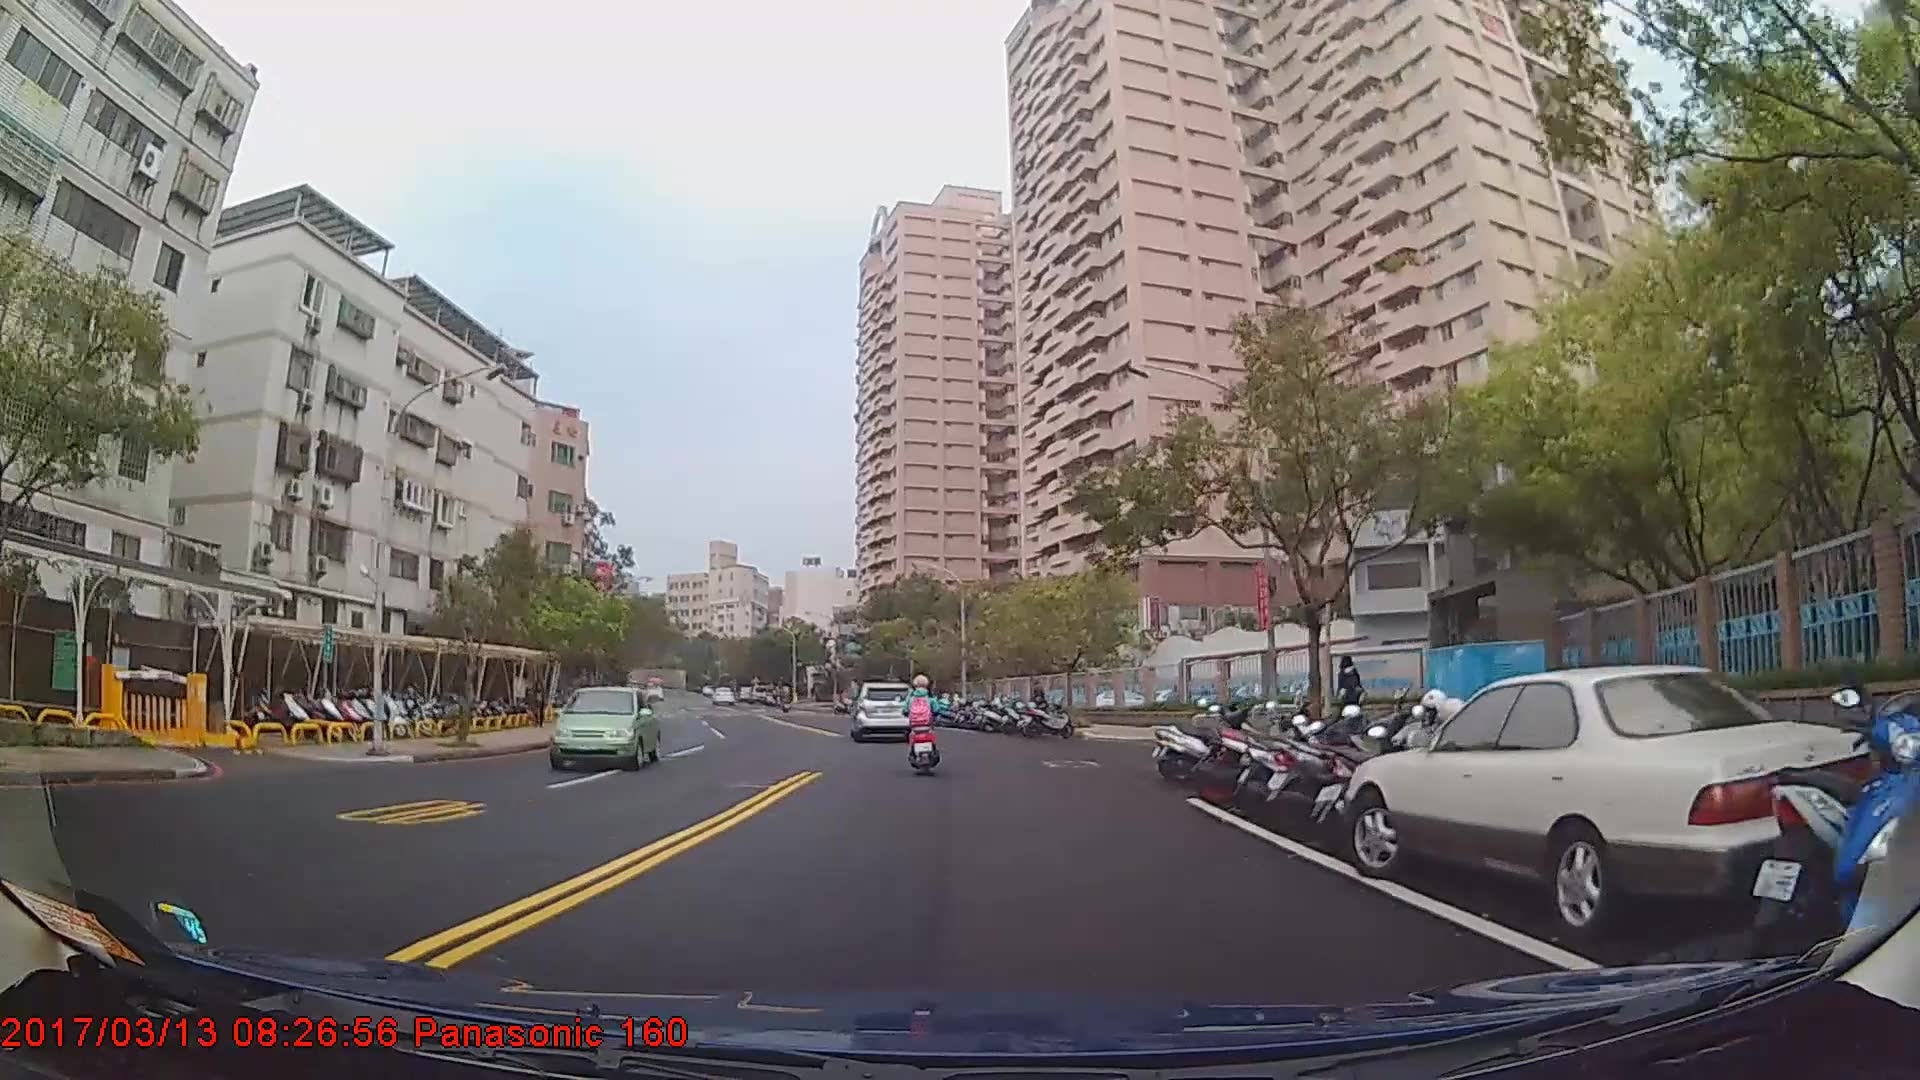pedestrian: (1336, 656, 1365, 755), (1029, 681, 1049, 727)
rider: (904, 675, 943, 780)
vehicle: (1341, 662, 1886, 939), (542, 684, 657, 768), (852, 679, 918, 742)
